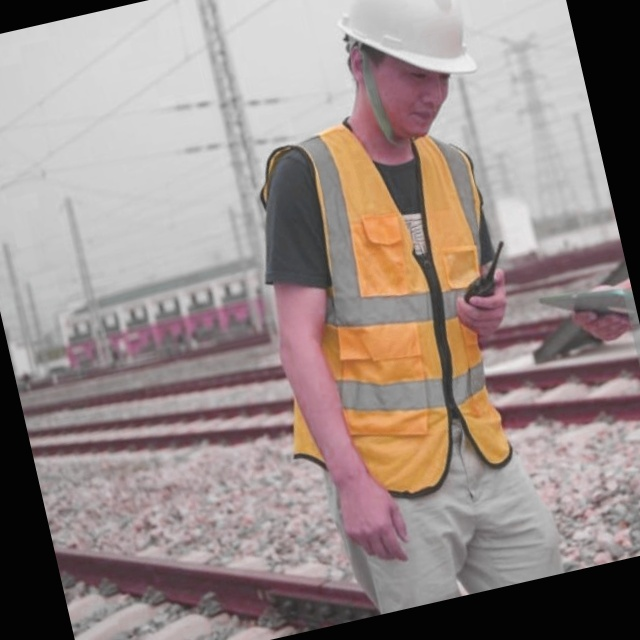Con_Casco: (322, 0, 490, 148)
Con_Chaleco: (263, 110, 535, 501)
